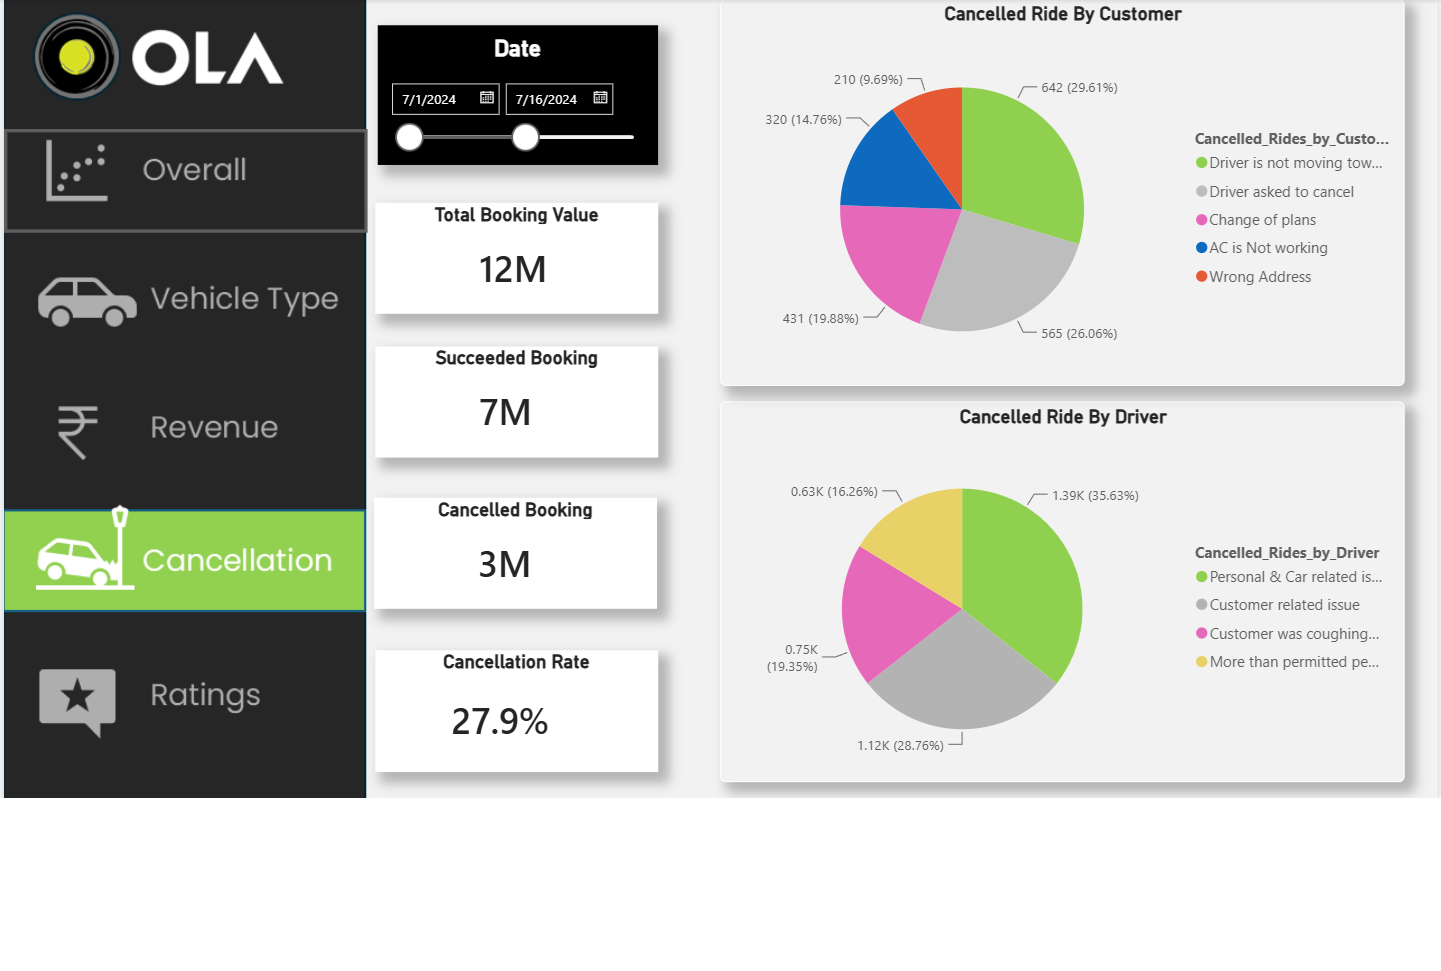

The dashboard page shown, as its layout file describes it:
{"tool":"powerbi","page":{"name":"CANCELLATION","canvas":[1280,720],"ordinal":3},"visuals":[{"type":"actionButton","box":[0,580.6,321.6,93.8],"z":0},{"type":"actionButton","box":[0,235.6,321.6,93.8],"z":1000},{"type":"actionButton","box":[0,335,321.6,93.8],"z":2000},{"type":"actionButton","box":[0,453.1,321,91.4],"z":3000},{"type":"actionButton","box":[10,590.6,321.6,93.8],"z":4000},{"type":"actionButton","box":[0,116.1,324.9,92.7],"z":5000},{"type":"pieChart","title":"Cancelled Ride By Customer","fields":{"Category":["July.Canceled_Rides_by_Customer"],"Y":["CountNonNull(July.Canceled_Rides_by_Customer)"]},"box":[639.4,0,611,345.3],"z":6000},{"type":"pieChart","title":"Cancelled Ride By Driver","fields":{"Category":["July.Canceled_Rides_by_Driver"],"Y":["CountNonNull(July.Canceled_Rides_by_Driver)"]},"box":[640,360,611.2,340],"z":7000},{"type":"slicer","title":"Date","fields":{"Values":["July.Date"]},"box":[333.8,23.8,250,125],"z":8000},{"type":"cardVisual","title":"Total Booking Value","fields":{"Data":["Sum(July.Booking_Value)"]},"box":[331.2,182.5,252.7,99.1],"z":9000},{"type":"cardVisual","title":"Succeeded Booking ","fields":{"Data":["Sum(July.Booking_Value)"]},"box":[331.2,310,252.7,99.1],"z":10000},{"type":"cardVisual","title":"Cancelled Booking ","fields":{"Data":["Sum(July.Booking_Value)"]},"box":[330,445,252.7,99.1],"z":11000},{"type":"cardVisual","title":"Cancellation Rate ","fields":{"Data":["July.CanceledPercentage"]},"box":[331.2,581.2,252.5,108.8],"z":12000}]}

Visuals, with their boxes on the page's 1280x720 design canvas (x1, y1, x2, y2). These are canvas units, not pixel positions in the 1441x971 screenshot, which may show the page scaled, cropped or inside an application window:
actionButton: (x1=0, y1=581, x2=322, y2=674)
actionButton: (x1=0, y1=236, x2=322, y2=329)
actionButton: (x1=0, y1=335, x2=322, y2=429)
actionButton: (x1=0, y1=453, x2=321, y2=544)
actionButton: (x1=10, y1=591, x2=332, y2=684)
actionButton: (x1=0, y1=116, x2=325, y2=209)
"Cancelled Ride By Customer" pieChart: (x1=639, y1=0, x2=1250, y2=345)
"Cancelled Ride By Driver" pieChart: (x1=640, y1=360, x2=1251, y2=700)
"Date" slicer: (x1=334, y1=24, x2=584, y2=149)
"Total Booking Value" cardVisual: (x1=331, y1=182, x2=584, y2=282)
"Succeeded Booking " cardVisual: (x1=331, y1=310, x2=584, y2=409)
"Cancelled Booking " cardVisual: (x1=330, y1=445, x2=583, y2=544)
"Cancellation Rate " cardVisual: (x1=331, y1=581, x2=584, y2=690)
